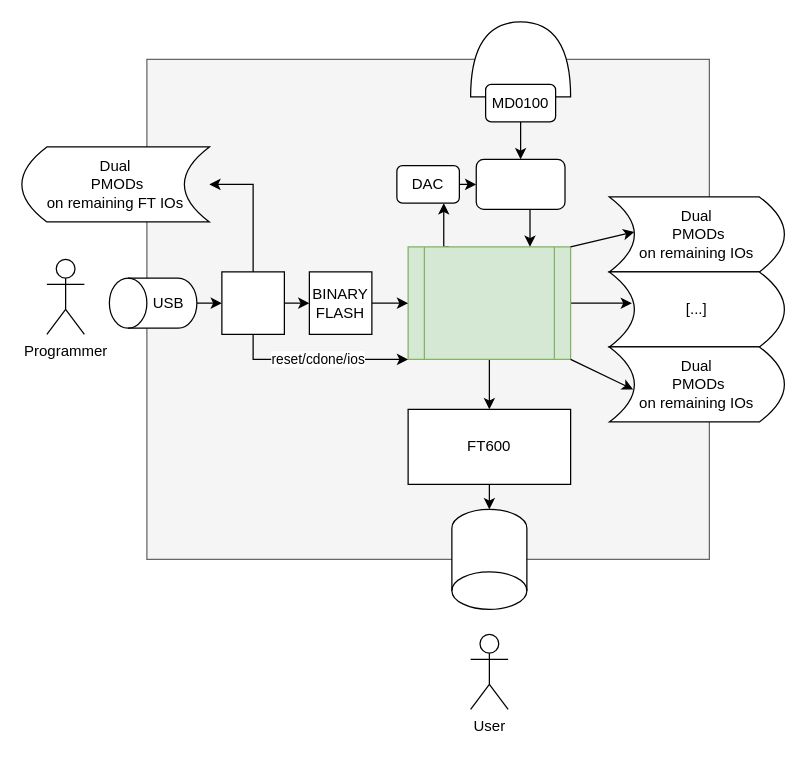
Image size: 806x758. Some labels were removed from this diagram. The shapes that lost their labels are listed below. From the top down, each one's box as (x1, y1, x2, y2) in pixels, then its label:
(469, 21, 571, 97): ADC
(475, 158, 565, 209): AD8331
(221, 271, 284, 334): FTDI
(407, 246, 571, 359): HX4K
(451, 508, 527, 609): USB3 connector
